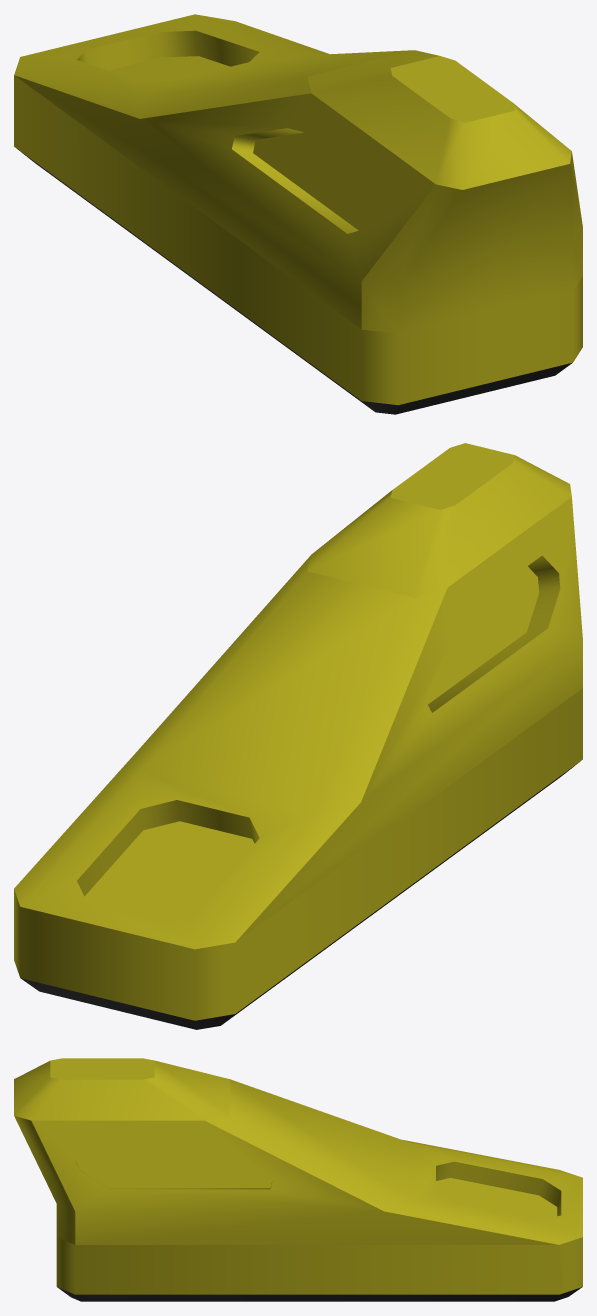
The model's file is sanding_paper.fbx.
The picture shows the model from 3 angles, top to bottom: view 1: azimuth 30°, elevation 25°; view 2: azimuth 150°, elevation 25°; view 3: azimuth 270°, elevation 25°; orthographic projection. The views are drawn at different scales.
Visible parts, largest first — view 1: sanding_paper; view 2: sanding_paper; view 3: sanding_paper.
Part boxes in pixels (x1=…): sanding_paper: x1=14, y1=14, x2=582, y2=414; sanding_paper: x1=14, y1=443, x2=582, y2=1029; sanding_paper: x1=14, y1=1058, x2=582, y2=1301.
Size of the model in its own units: 0.0338 by 0.1081 by 0.0422.
